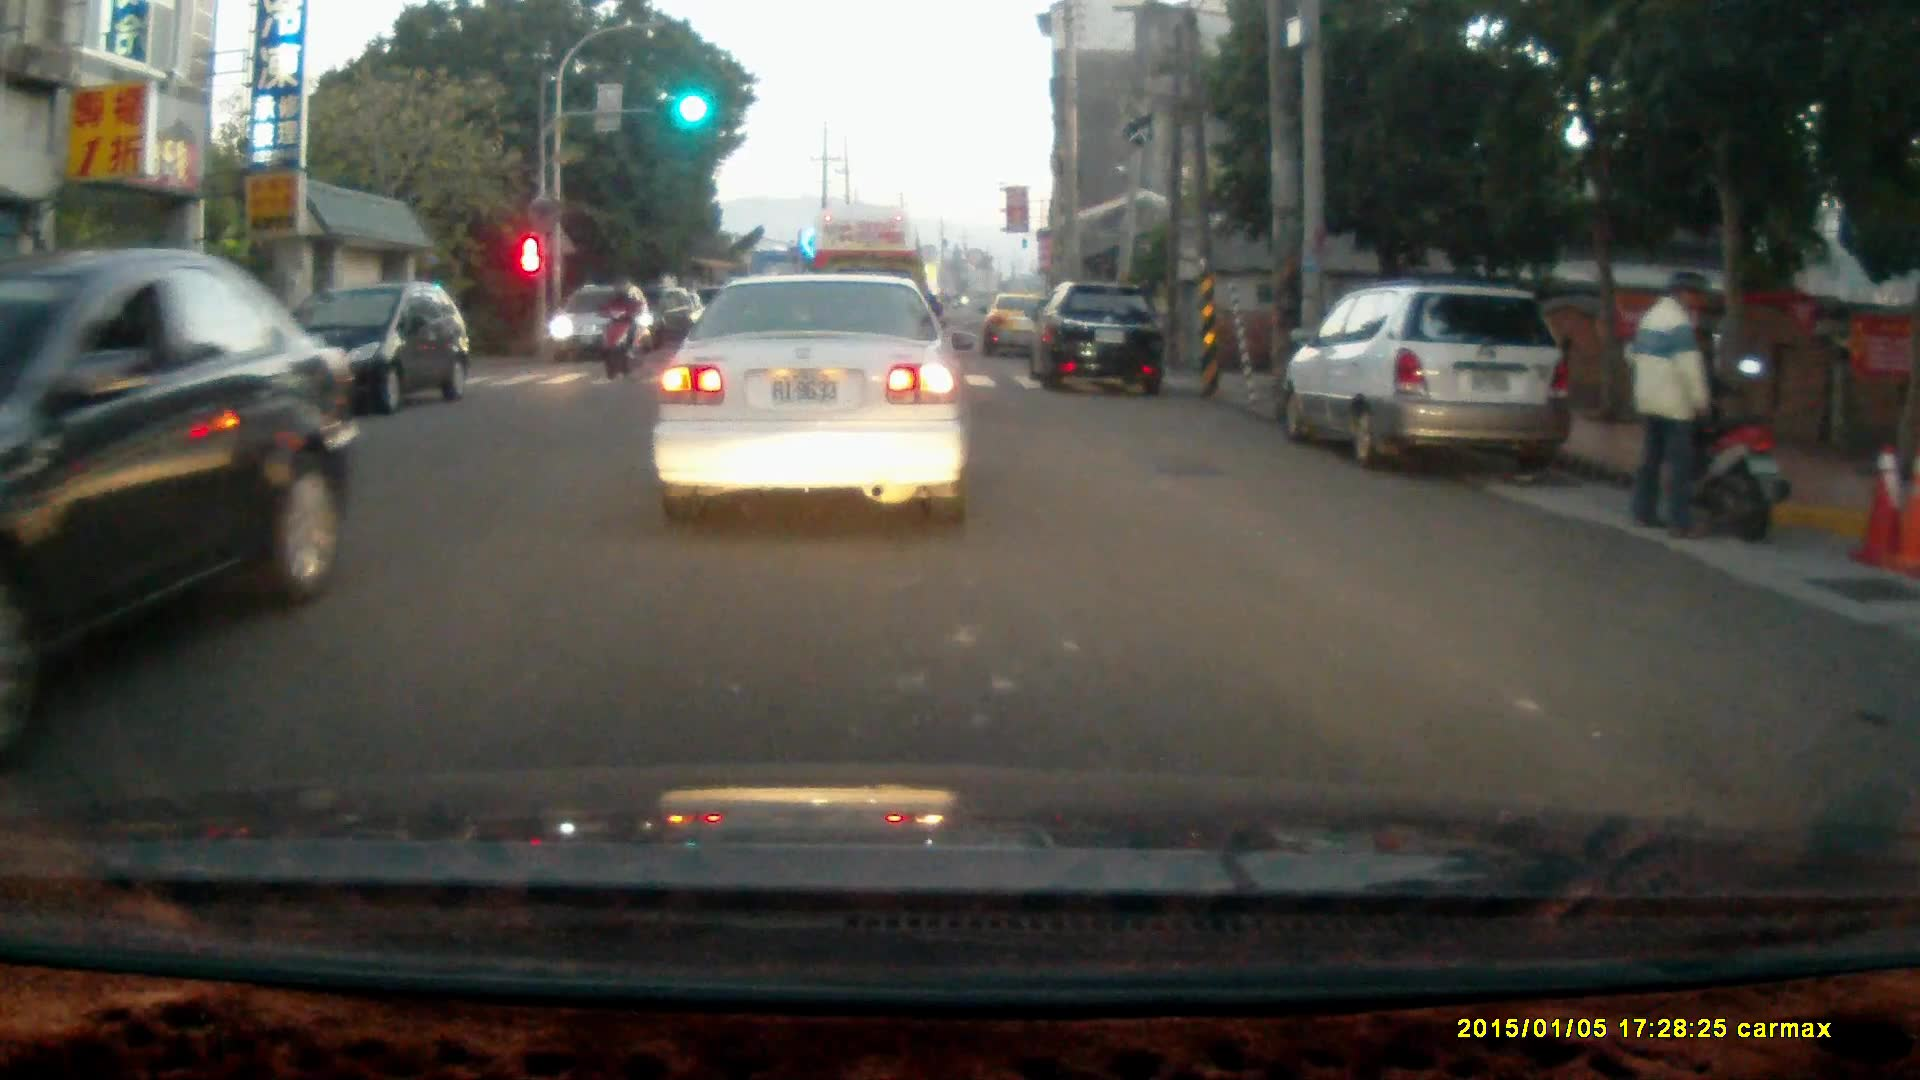pedestrian: (1621, 268, 1711, 540)
rider: (596, 277, 636, 377)
vehicle: (1, 246, 374, 719), (651, 272, 972, 525), (1293, 283, 1572, 476), (812, 204, 930, 366), (1029, 279, 1173, 394), (551, 282, 655, 357), (977, 294, 1070, 364)
